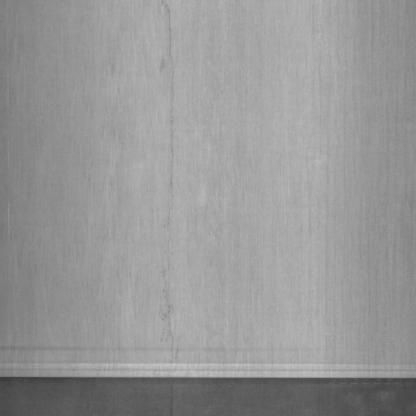welding_line: (1, 350, 416, 393)
